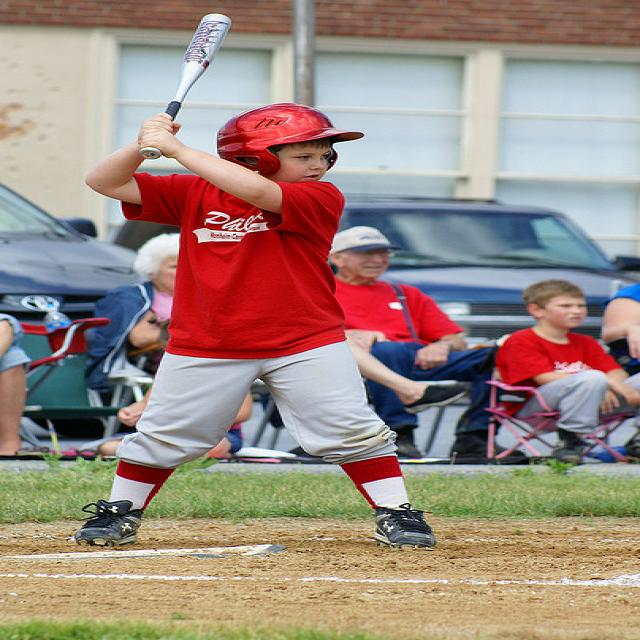Vehicle: (332, 194, 640, 349), (0, 182, 143, 319)
